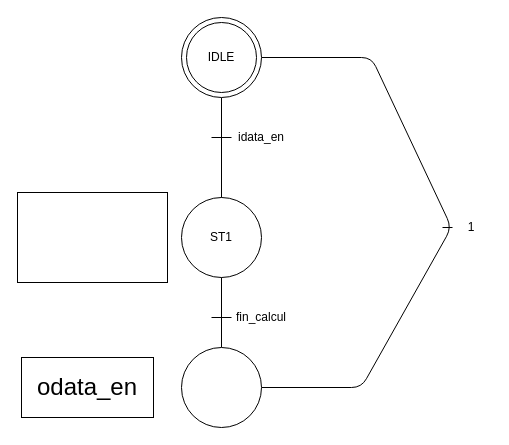
Image size: 509x445. Some labels were removed from this diagram. The box of each missing label's shape, as (x1, y1, x2, y2) in pixels:
Calcul du PGCD: (16, 192, 168, 282)
ST2: (180, 346, 262, 428)
